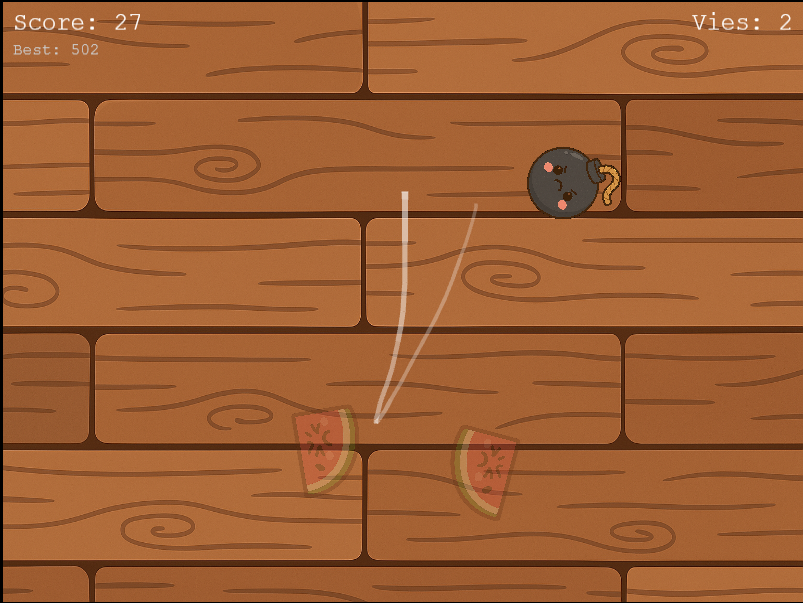bomb: (524, 135, 622, 233)
